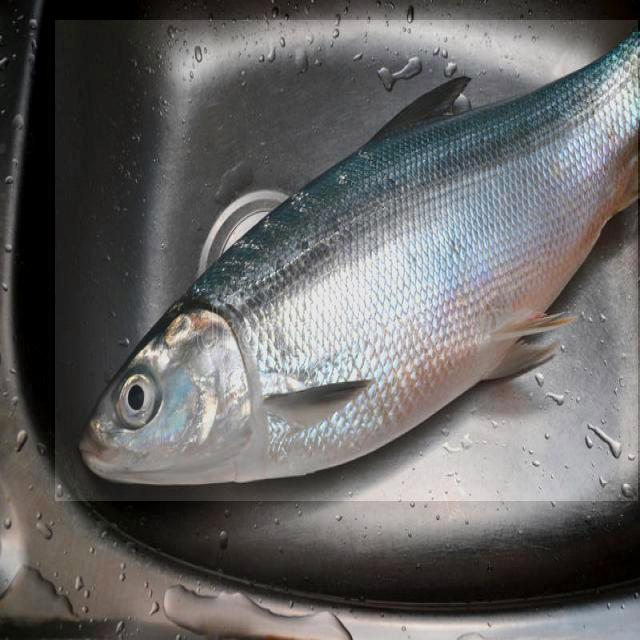Healthy Fish: (55, 20, 638, 501)
